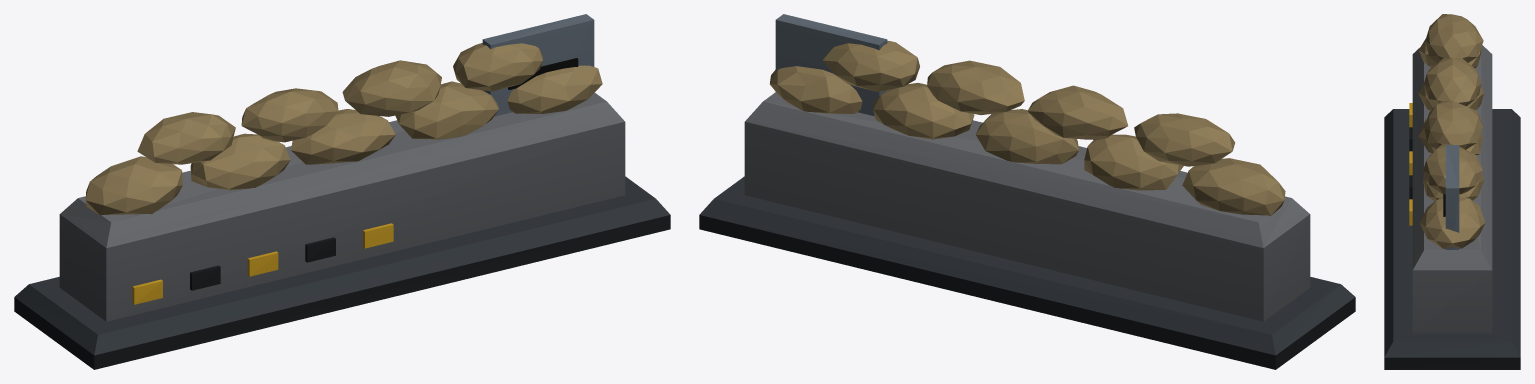
The model's file is outpost-barricade.glb.
3 renders of one model, left to right at view 1: azimuth 30°, elevation 25°; view 2: azimuth 150°, elevation 25°; view 3: azimuth 270°, elevation 25°, orthographic. The views are drawn at different scales.
Bounding box in the file's own units: 5 × 1.6 × 1.2.
